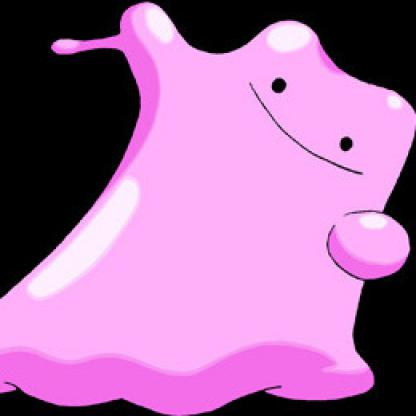Ditto: (1, 1, 416, 378)
